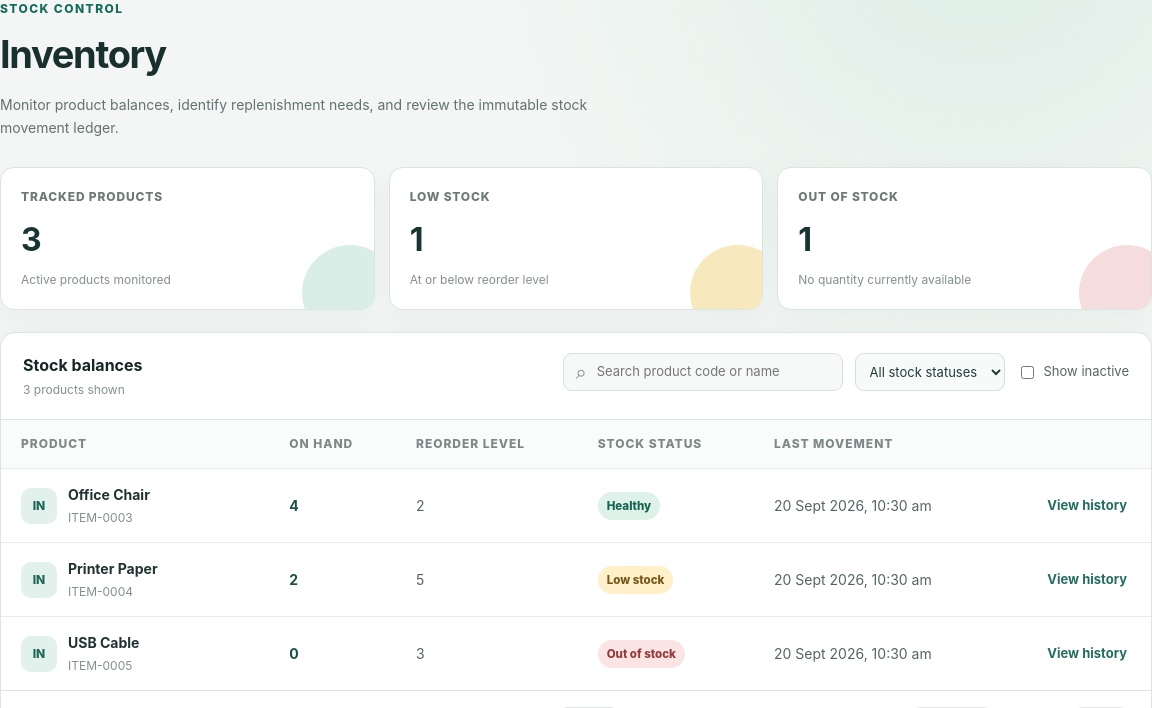
Test case: InventoryListView › filters products by stock status and can reveal inactive products
Select "Out of stock" in the dropdown named "Filter by stock status": (930, 372) [854,353,1004,391]
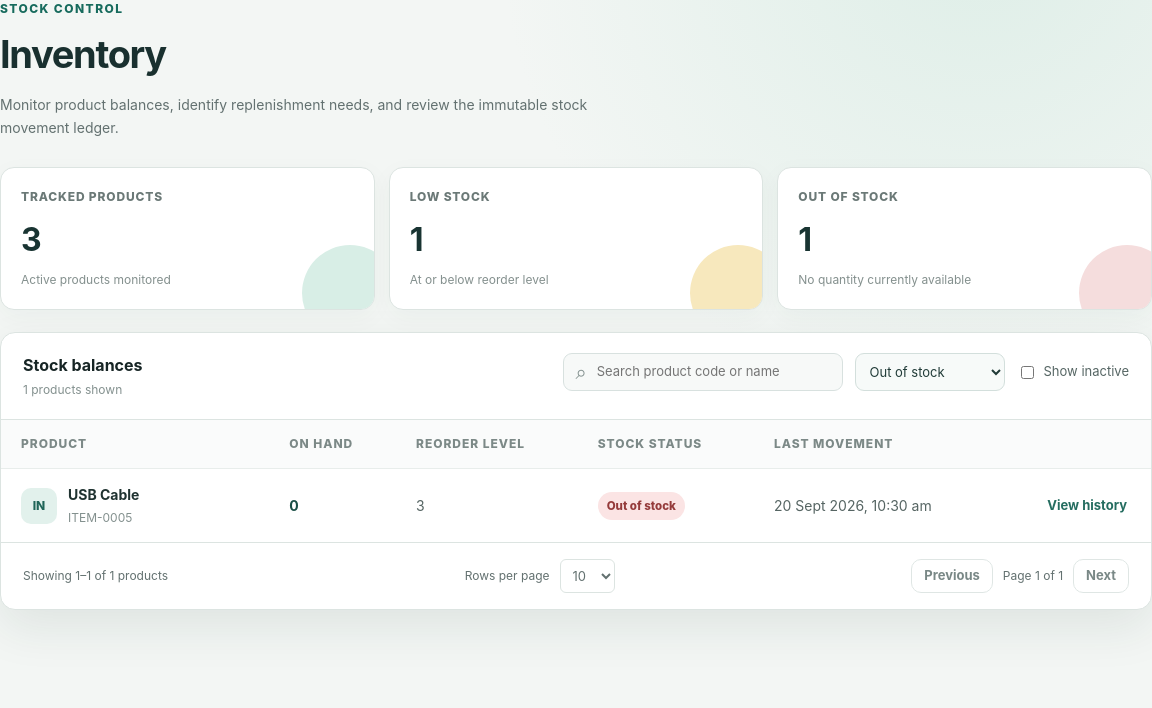
expect the table shows "USB Cable": met, box [68,486,139,503]
expect the text "Office Chair" is gone: met
Select "All stock statuses" in the dropdown named "Filter by stock status": (930, 372) [854,353,1004,391]
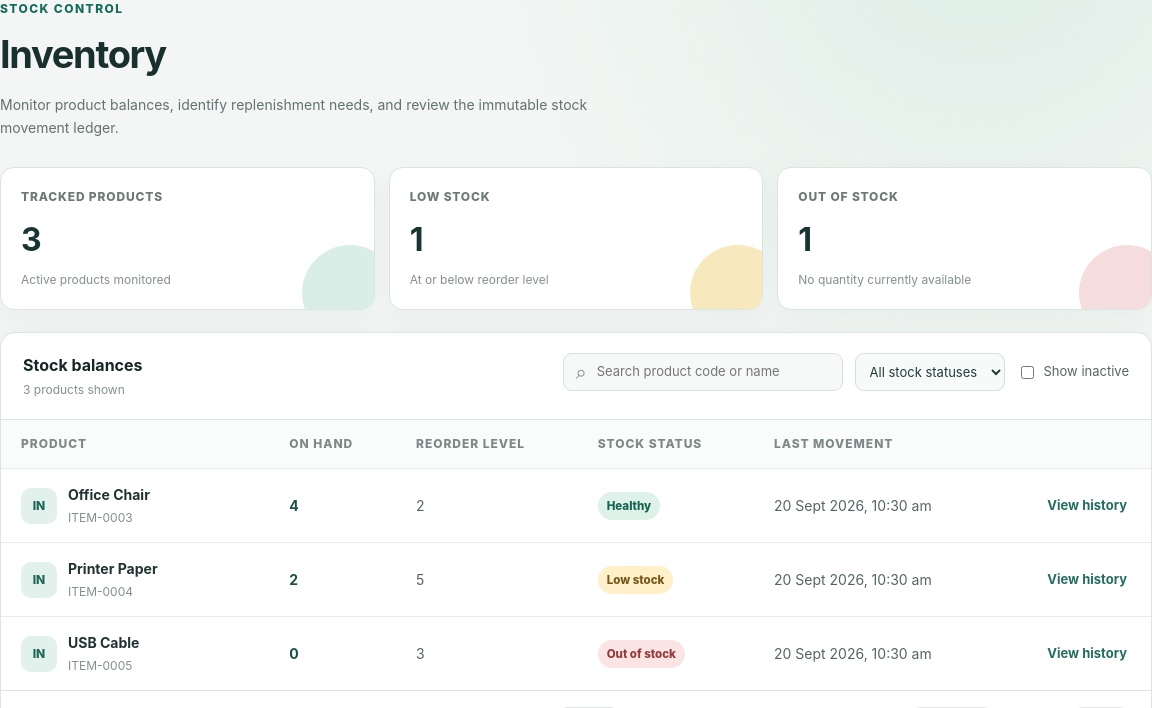
Click the checkbox labelled "Show inactive": (1027, 372) [1020,366,1034,379]
(page scrolled)
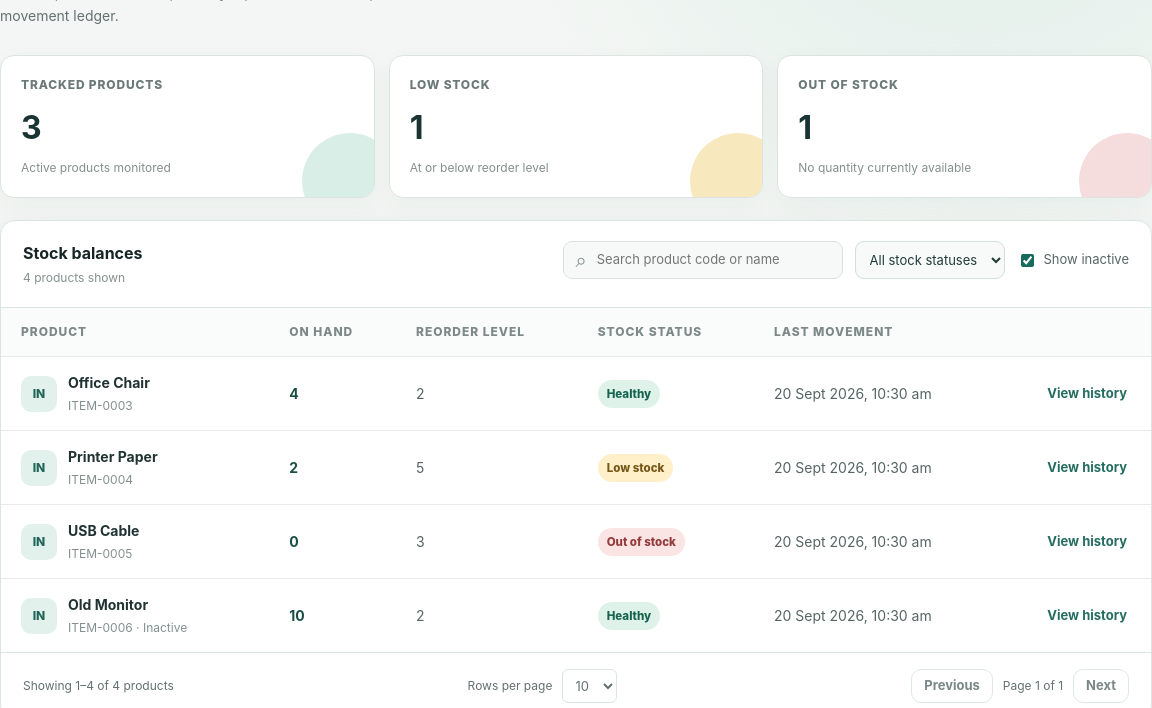
expect the table shows "Old Monitor": met, box [68,596,148,613]
expect the table shows "Inactive": met, box [136,620,187,635]
